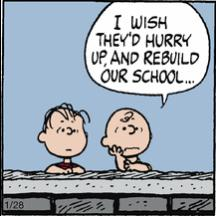charlie: (97, 106, 153, 172)
